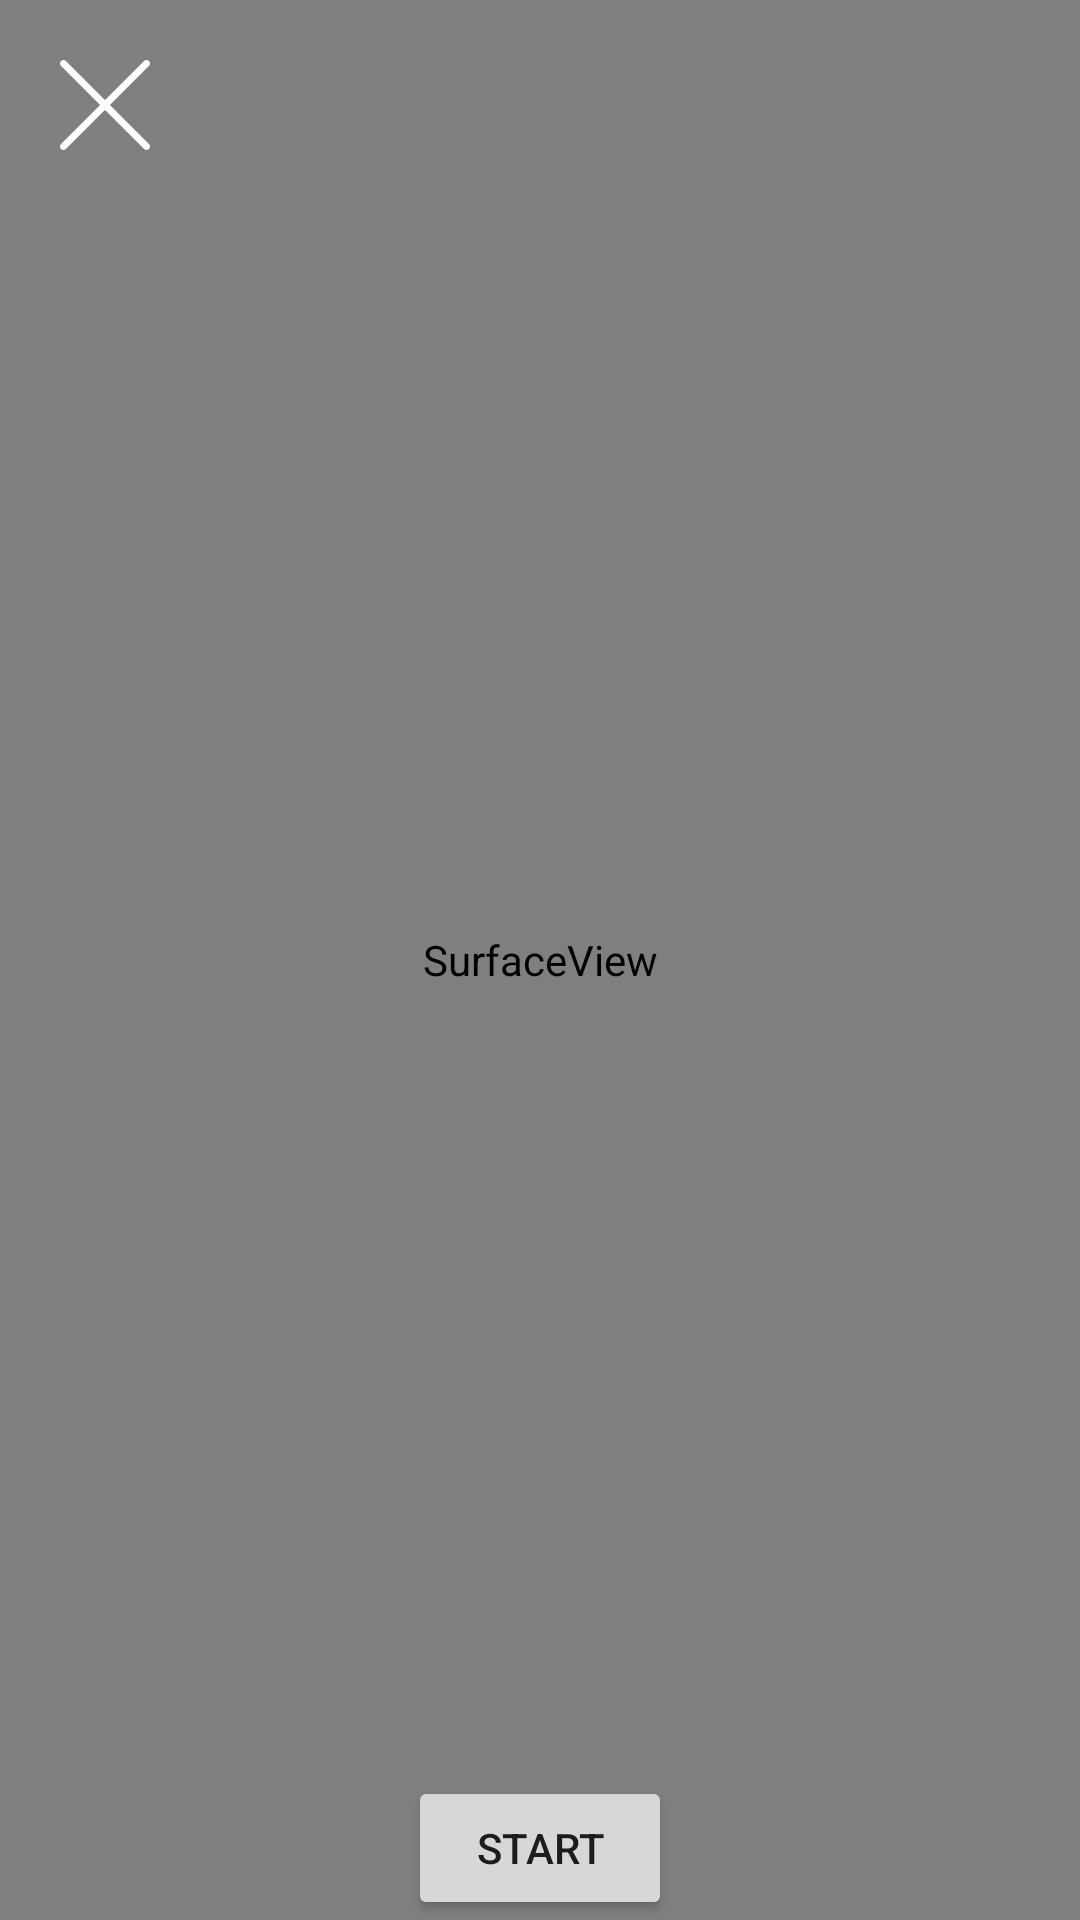

Icons on this 1080px x 1920px Android screen, each with the point to tap as (x,y):
exitcamera: (105,105)
